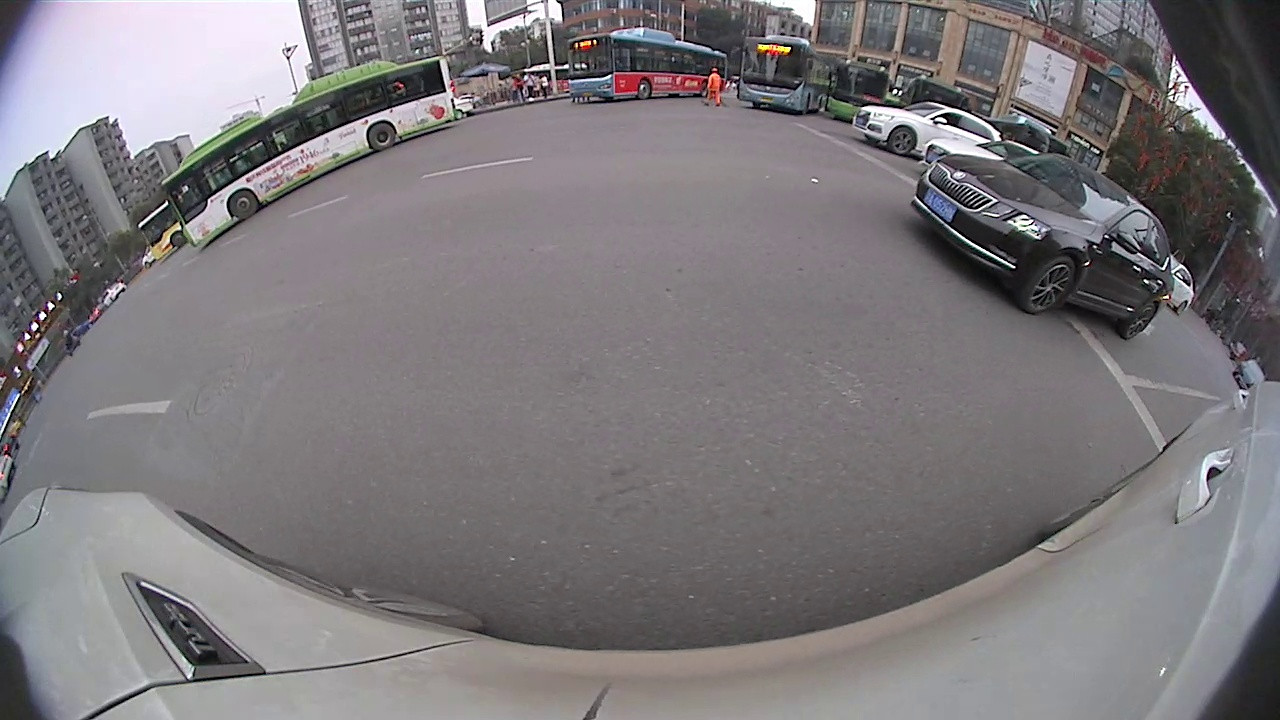bus: (160, 54, 457, 251), (566, 27, 728, 102), (737, 34, 830, 116), (824, 59, 890, 123), (137, 199, 187, 263)
car: (910, 151, 1174, 341), (849, 100, 1010, 157), (1160, 255, 1194, 317)
front: (1019, 254, 1080, 316), (224, 189, 260, 220), (884, 124, 920, 155), (636, 78, 653, 101)
person: (708, 67, 720, 109)
rear: (1120, 296, 1160, 342), (364, 120, 399, 153)
